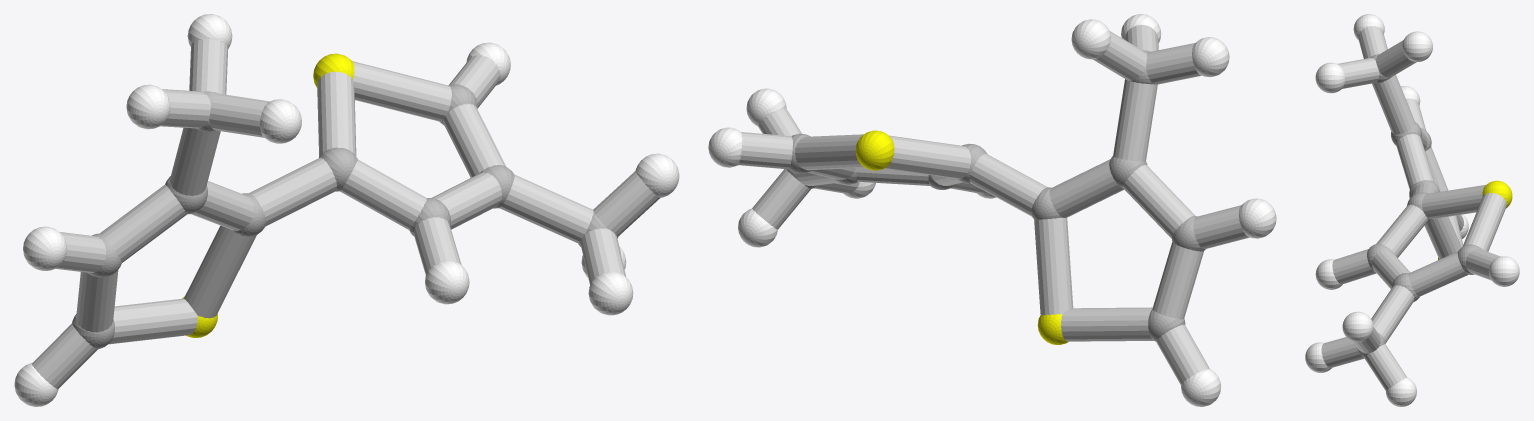
The model's file is Methylthiophene_Phi_25_Theta_280_Methylthiophene.glb.
3 renders of one model, left to right at view 1: azimuth 30°, elevation 25°; view 2: azimuth 150°, elevation 25°; view 3: azimuth 270°, elevation 25°, orthographic. The views are drawn at different scales.
Visible parts, largest first — view 1: grp7965, grp3621, grp1, grp7241; view 2: grp7965, grp3621, grp1, grp7241; view 3: grp7965, grp3621, grp1, grp7241.
Part boxes in pixels (x1,y1,x2,y2): grp7965: [32, 39, 660, 389]; grp3621: [14, 14, 679, 406]; grp1: [72, 84, 618, 349]; grp7241: [182, 53, 354, 337]; grp7965: [738, 24, 1249, 385]; grp3621: [708, 14, 1276, 406]; grp1: [786, 50, 1205, 341]; grp7241: [855, 130, 1068, 344]; grp7965: [1321, 26, 1506, 390]; grp3621: [1305, 14, 1519, 406]; grp1: [1358, 54, 1482, 357]; grp7241: [1438, 180, 1512, 259].
Bounding box in the file's own units: 9.55 × 5.5 × 4.15.
